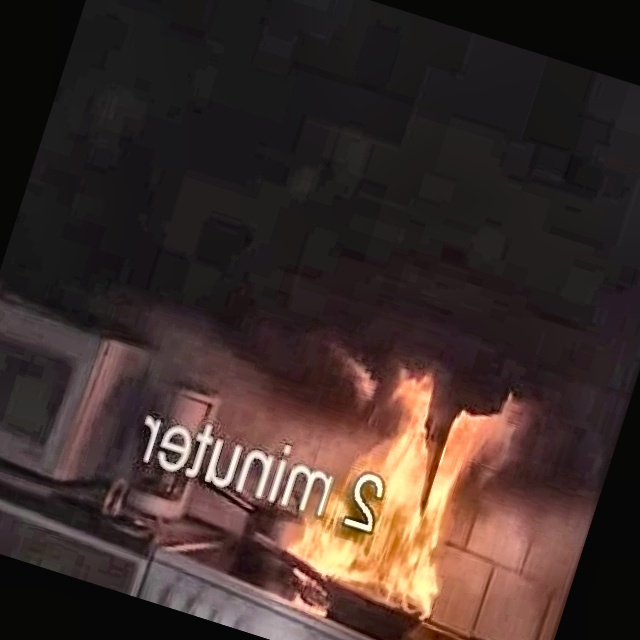fire: (219, 298, 556, 640)
